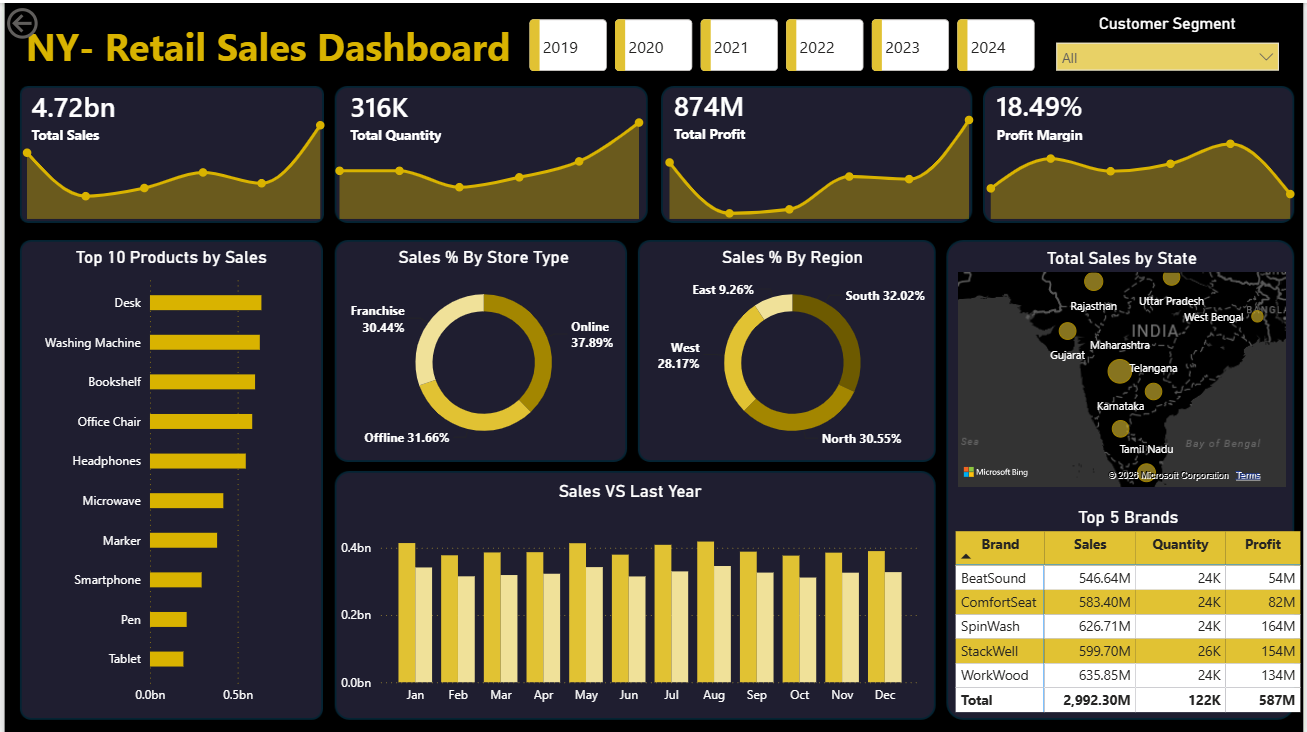

The dashboard page shown, as its layout file describes it:
{"tool":"powerbi","page":{"name":"Page 1","canvas":[1280,720],"ordinal":0},"visuals":[{"type":"textbox","box":[18.4,12.3,495.7,60.1],"z":2},{"type":"cardVisual","fields":{"Data":["1_Measure.Total Sales"]},"box":[0,61.4,171.8,98.2],"z":3},{"type":"cardVisual","fields":{"Data":["1_Measure.Total Quantity"]},"box":[312.9,61.4,171.8,98.2],"z":4},{"type":"cardVisual","fields":{"Data":["1_Measure.Total Profit"]},"box":[630.7,42.9,229.4,133.7],"z":5},{"type":"cardVisual","fields":{"Data":["1_Measure.Profit Margin"]},"box":[947.2,66.3,155.8,87.1],"z":6},{"type":"areaChart","fields":{"Y":["1_Measure.Total Sales"],"Category":["Calender Table.Year"]},"box":[9.8,88.3,317.8,128.8],"z":7},{"type":"areaChart","fields":{"Y":["1_Measure.Total Quantity"],"Category":["Calender Table.Year"]},"box":[316.6,72.4,323.9,144.8],"z":8},{"type":"areaChart","fields":{"Y":["1_Measure.Total Profit"],"Category":["Calender Table.Year"]},"box":[640.5,95.7,323.9,121.5],"z":9},{"type":"areaChart","fields":{"Y":["1_Measure.Profit Margin"],"Category":["Calender Table.Year"]},"box":[955.8,120.2,323.9,96.9],"z":10},{"type":"barChart","title":"Top 10 Products by Sales","fields":{"Y":["1_Measure.Total Sales"],"Category":["Dim_Product.ProductName"]},"box":[29.4,239.3,273.6,457.7],"z":11},{"type":"donutChart","title":"Sales % By Store Type","fields":{"Y":["1_Measure.Total Sales"],"Category":["Dim_Store.StoreType"]},"box":[327.6,239.3,290.8,208.6],"z":12},{"type":"donutChart","title":"Sales % By Region","fields":{"Y":["1_Measure.Total Sales"],"Category":["Dim_Customer.Region"]},"box":[630.7,239.3,290.8,208.6],"z":13},{"type":"clusteredColumnChart","title":"Sales VS Last Year","fields":{"Category":["Calender Table.Month Name"],"Y":["1_Measure.Total Sales","1_Measure.Sales LY"]},"box":[327.6,468.7,577.9,228.2],"z":14},{"type":"map","fields":{"Category":["Dim_Store.State"],"Size":["1_Measure.Total Sales"]},"box":[933.7,240.5,331.3,239.3],"z":15},{"type":"pivotTable","title":"Top 5 Brands","fields":{"Rows":["Dim_Product.Brand"],"Values":["1_Measure.Total Sales","1_Measure.Total Quantity","1_Measure.Total Profit"]},"box":[931.7,494,348.5,212.7],"z":16},{"type":"actionButton","box":[0,0,100,40],"z":17},{"type":"advancedSlicerVisual","fields":{"Values":["Calender Table.Year"]},"box":[513.2,11,511.8,61.7],"z":18},{"type":"slicer","title":"Customer Segment","fields":{"Values":["Dim_Customer.Segment"]},"box":[1025,11,238.8,61.7],"z":19}]}

Visuals, with their boxes in screenshot pixels (x1, y1, x2, y2), scaled from the page's 1280x720 canvas onto the 1307x732 screenshot:
textbox: [left=19, top=13, right=525, bottom=74]
cardVisual - 1_Measure.Total Sales: [left=0, top=62, right=175, bottom=162]
cardVisual - 1_Measure.Total Quantity: [left=320, top=62, right=495, bottom=162]
cardVisual - 1_Measure.Total Profit: [left=644, top=44, right=878, bottom=180]
cardVisual - 1_Measure.Profit Margin: [left=967, top=67, right=1126, bottom=156]
areaChart - 1_Measure.Total Sales x Calender Table.Year: [left=10, top=90, right=335, bottom=221]
areaChart - 1_Measure.Total Quantity x Calender Table.Year: [left=323, top=74, right=654, bottom=221]
areaChart - 1_Measure.Total Profit x Calender Table.Year: [left=654, top=97, right=985, bottom=221]
areaChart - 1_Measure.Profit Margin x Calender Table.Year: [left=976, top=122, right=1306, bottom=221]
"Top 10 Products by Sales" barChart: [left=30, top=243, right=309, bottom=709]
"Sales % By Store Type" donutChart: [left=335, top=243, right=631, bottom=455]
"Sales % By Region" donutChart: [left=644, top=243, right=941, bottom=455]
"Sales VS Last Year" clusteredColumnChart: [left=335, top=477, right=925, bottom=709]
map - Dim_Store.State x 1_Measure.Total Sales: [left=953, top=245, right=1292, bottom=488]
"Top 5 Brands" pivotTable: [left=951, top=502, right=1306, bottom=718]
actionButton: [left=0, top=0, right=102, bottom=41]
advancedSlicerVisual - Calender Table.Year: [left=524, top=11, right=1047, bottom=74]
"Customer Segment" slicer: [left=1047, top=11, right=1290, bottom=74]
